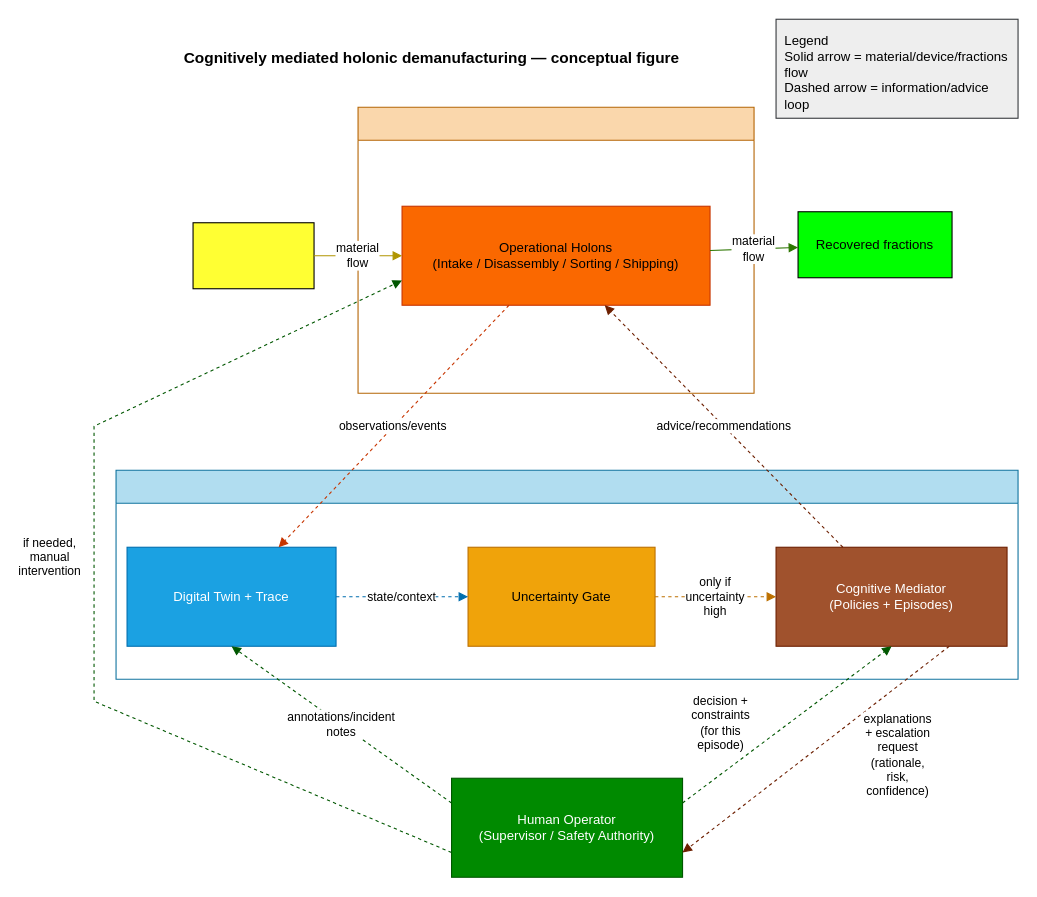
The diagram is 1037 pixels wide and 897 high, and some of its shapes have lost their labels. The box of each missing label's shape, as (x1, y1, x2, y2) in pixels:
Cyber layer: (115, 469, 1018, 679)
Device batch: (192, 222, 314, 289)
Physical system (shopfloor): (357, 106, 754, 393)
